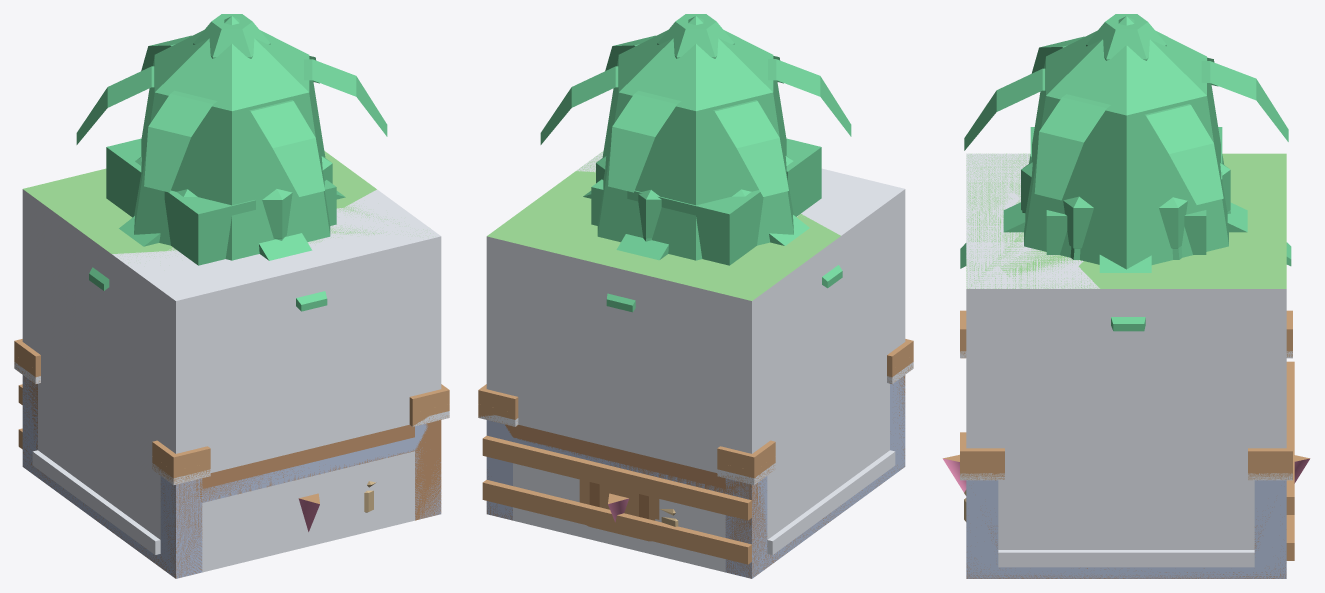
File: isles.glb
3 renders of one model, left to right at view 1: azimuth 30°, elevation 25°; view 2: azimuth 150°, elevation 25°; view 3: azimuth 270°, elevation 25°, orthographic. The views are drawn at different scales.
Parts seen in each view (by area): view 1: cliff_large_stone, cliff_block_stone, tree_default, bridge_stone, bridge_woodRound, tree_palm, cliff_stone, tree_blocks, tree_palmShort, tree_tall, bridge_wood, tree_plateau; view 2: cliff_block_stone, tree_default, cliff_large_stone, fence_planks, tree_palm, bridge_woodRound, bridge_stone, tree_blocks, cliff_stone, tree_palmShort, tree_tall, gate (+2 smaller); view 3: cliff_block_stone, cliff_large_stone, tree_default, cliff_stone, bridge_stone, tree_palm, bridge_woodRound, tree_plateau, tree_palmShort, tree_tall, tree_blocks, bridge_wood (+2 smaller).
Boxes of the visible parts, left/top/right/bottom form: cliff_large_stone: left=111, top=189, right=441, bottom=572; cliff_block_stone: left=22, top=151, right=430, bottom=529; tree_default: left=134, top=16, right=330, bottom=260; bridge_stone: left=14, top=362, right=449, bottom=578; bridge_woodRound: left=14, top=339, right=449, bottom=578; tree_palm: left=76, top=35, right=387, bottom=196; cliff_stone: left=150, top=231, right=439, bottom=537; tree_blocks: left=106, top=138, right=336, bottom=265; tree_palmShort: left=89, top=191, right=345, bottom=311; tree_tall: left=193, top=14, right=270, bottom=58; bridge_wood: left=14, top=355, right=449, bottom=483; tree_plateau: left=135, top=156, right=332, bottom=238; cliff_block_stone: left=486, top=151, right=879, bottom=572; tree_default: left=597, top=16, right=793, bottom=260; cliff_large_stone: left=576, top=151, right=905, bottom=484; fence_planks: left=482, top=435, right=751, bottom=564; tree_palm: left=540, top=35, right=851, bottom=196; bridge_woodRound: left=478, top=339, right=913, bottom=578; bridge_stone: left=478, top=362, right=913, bottom=578; tree_blocks: left=591, top=138, right=821, bottom=265; cliff_stone: left=821, top=171, right=905, bottom=456; tree_palmShort: left=583, top=191, right=842, bottom=312; tree_tall: left=657, top=14, right=734, bottom=58; gate: left=579, top=479, right=659, bottom=541; cliff_block_stone: left=966, top=153, right=1286, bottom=549; cliff_large_stone: left=966, top=153, right=1100, bottom=549; tree_default: left=1024, top=16, right=1228, bottom=269; cliff_stone: left=966, top=153, right=1020, bottom=549; bridge_stone: left=960, top=351, right=1292, bottom=578; tree_palm: left=964, top=36, right=1288, bottom=204; bridge_woodRound: left=960, top=310, right=1292, bottom=578; tree_plateau: left=1021, top=162, right=1230, bottom=248; tree_palmShort: left=960, top=202, right=1291, bottom=331; tree_tall: left=1086, top=14, right=1166, bottom=60; tree_blocks: left=1030, top=127, right=1222, bottom=254; bridge_wood: left=960, top=344, right=1292, bottom=480.
Bounding box in the file's own units: 1.04 × 1.71 × 1.15.
